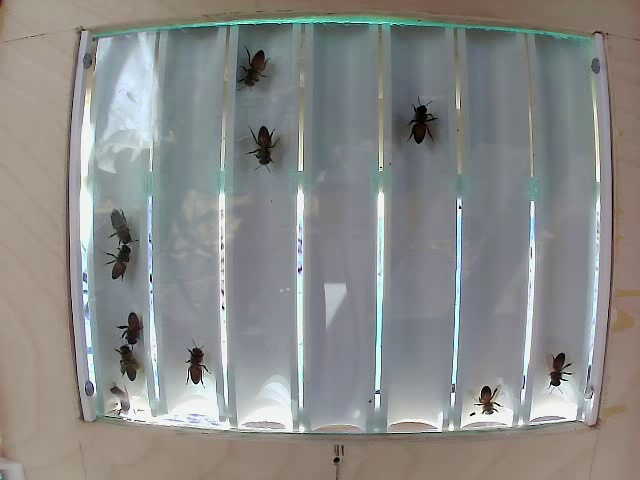bee: (235, 122, 304, 195), (174, 330, 216, 395), (402, 94, 439, 165), (239, 39, 282, 94), (99, 194, 152, 238), (106, 240, 144, 281), (115, 312, 151, 350), (110, 340, 142, 372)
